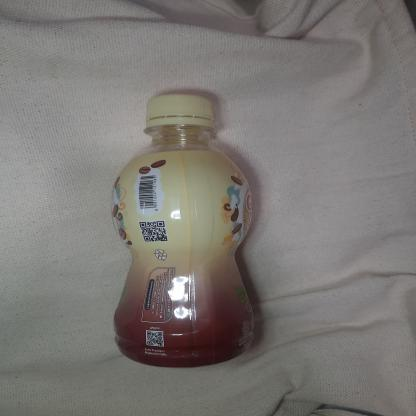bottle: (107, 90, 268, 370)
